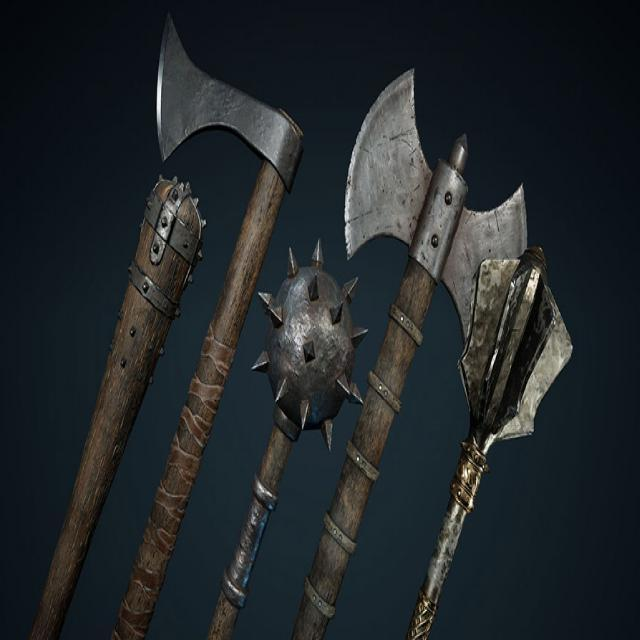axe: (296, 64, 532, 640), (156, 5, 305, 640)
mace: (11, 170, 207, 640), (401, 241, 584, 640)
morningstar: (209, 237, 370, 640)
